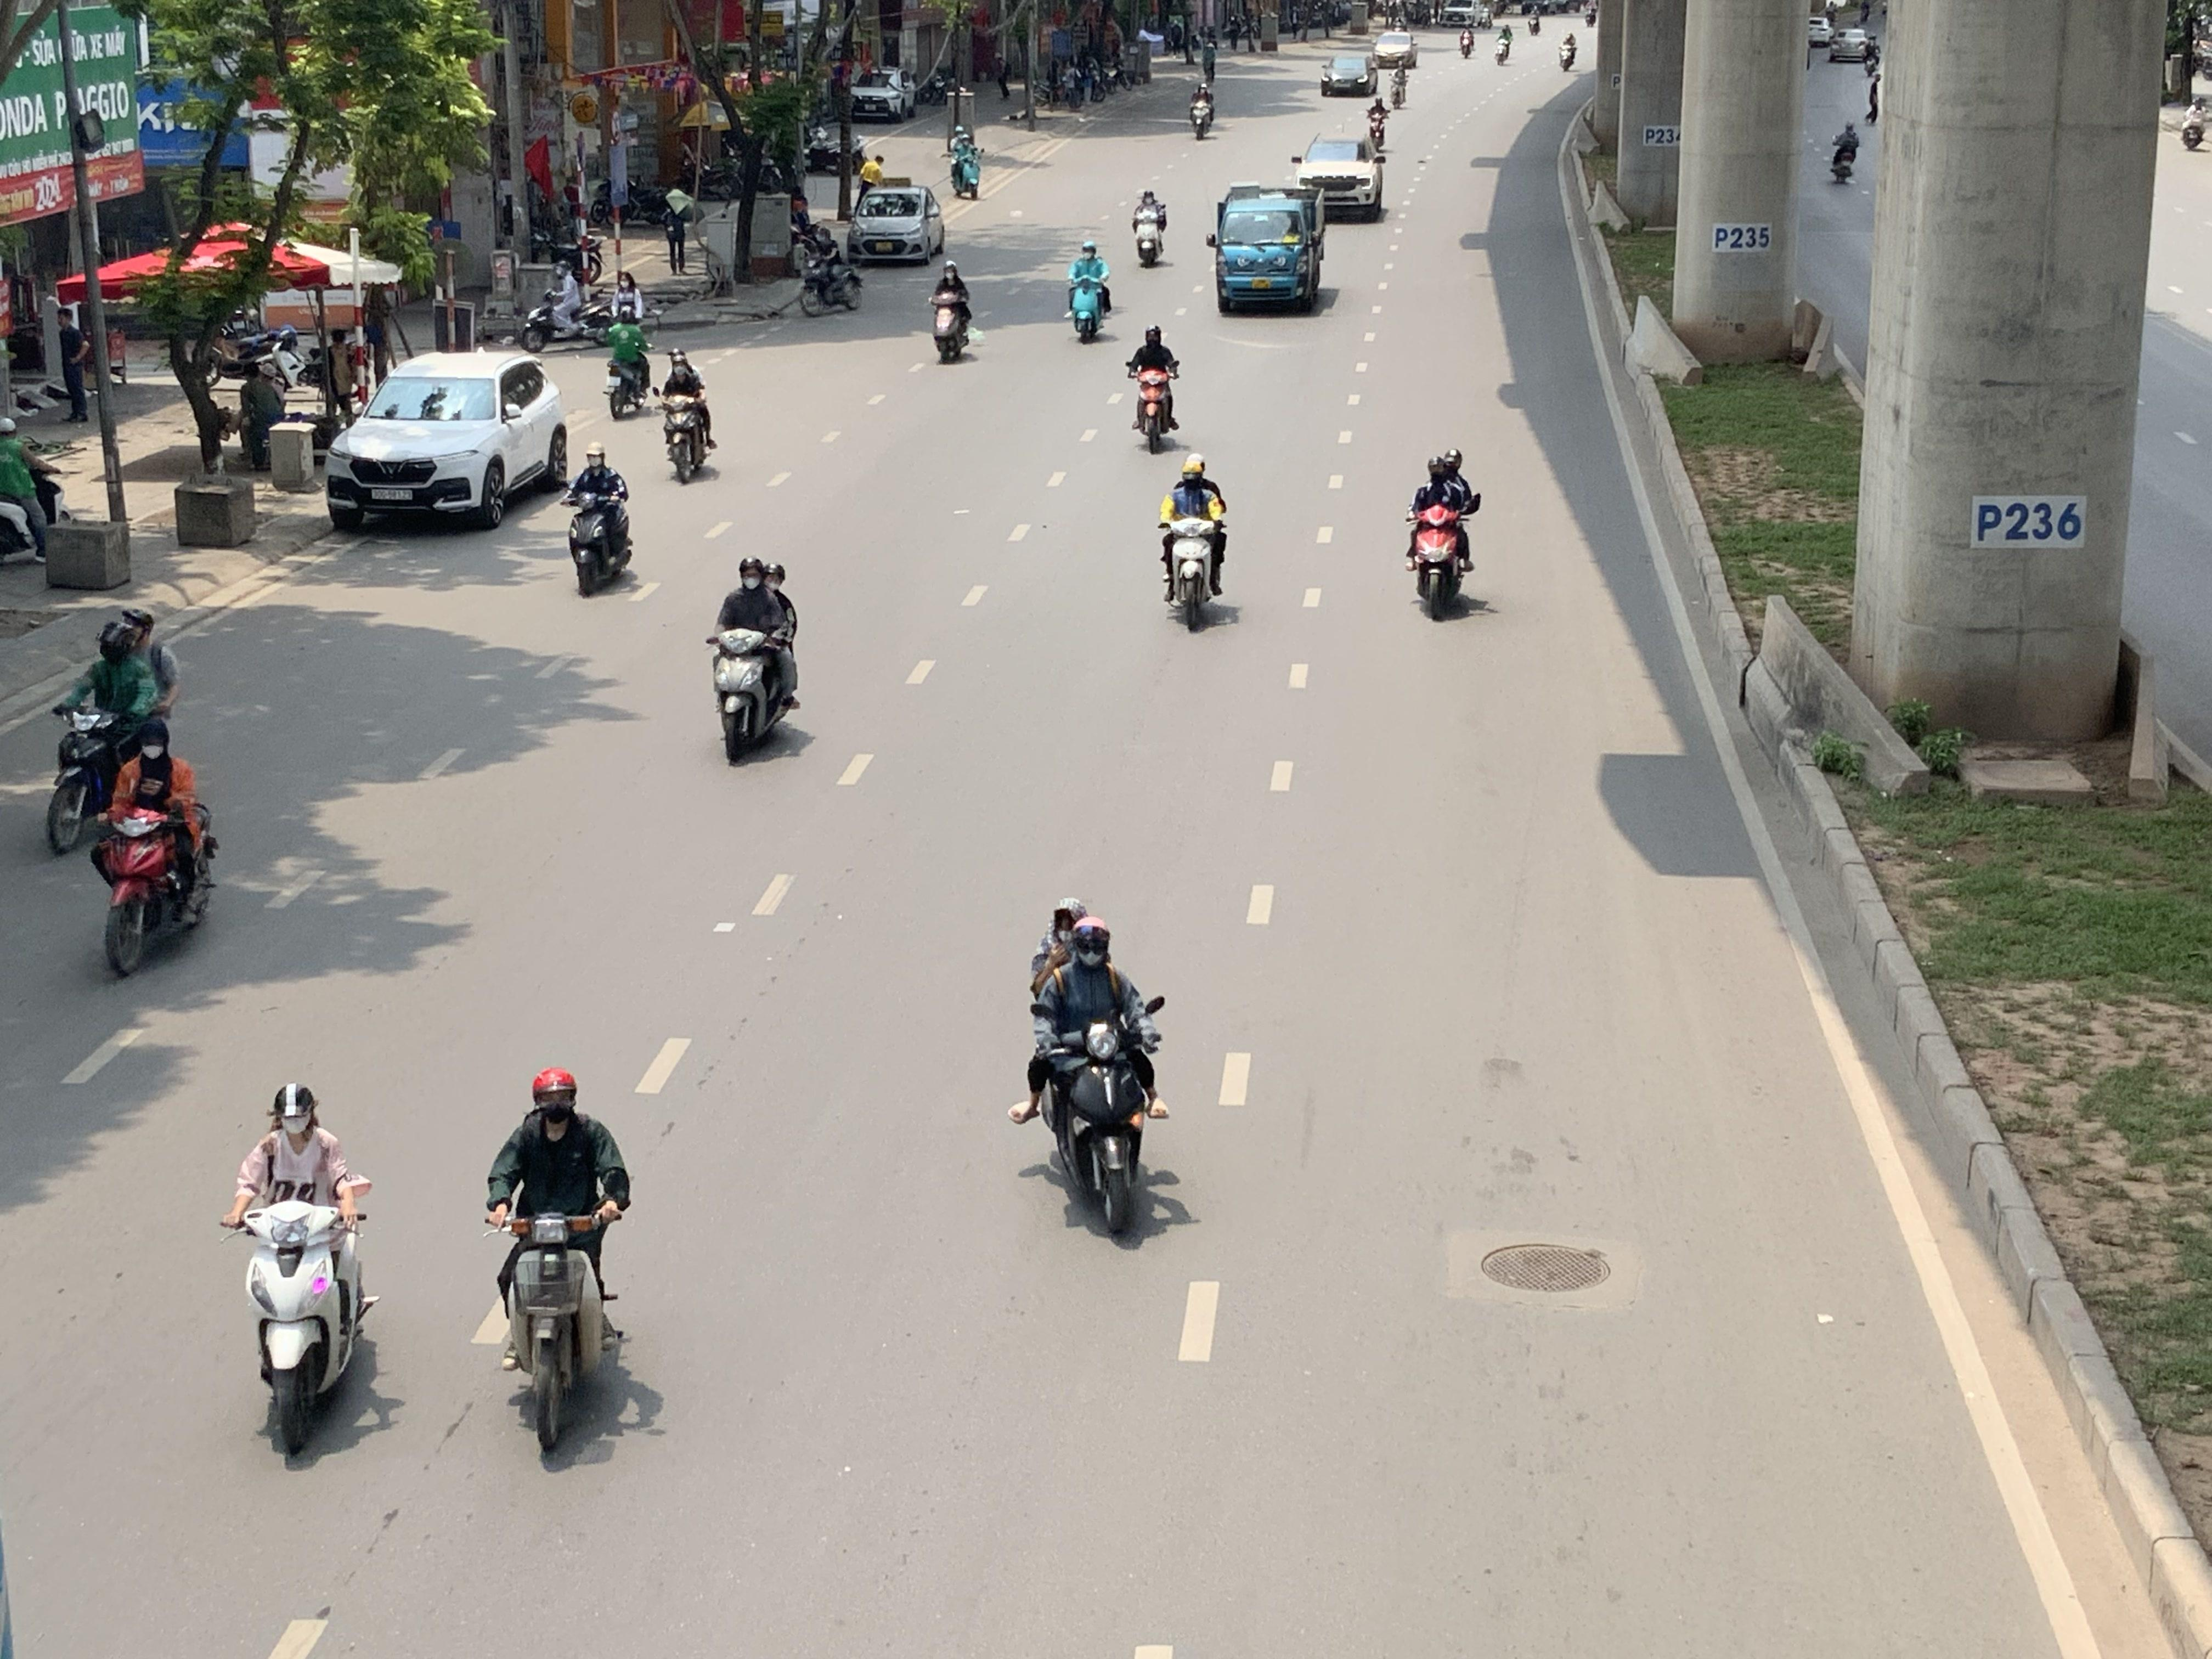car: (324, 350, 570, 533), (1289, 134, 1386, 221), (848, 183, 944, 265), (848, 68, 916, 122), (1320, 51, 1376, 96), (1827, 24, 1879, 63), (1371, 28, 1416, 66)
motorbike: (225, 1082, 376, 1469), (486, 1066, 631, 1462), (1017, 903, 1167, 1243), (42, 608, 178, 857), (94, 714, 216, 981), (709, 554, 801, 765), (1406, 446, 1479, 622), (1158, 453, 1230, 633), (564, 441, 637, 598), (0, 416, 63, 573), (523, 263, 613, 352), (658, 350, 716, 484), (1129, 324, 1181, 455), (798, 223, 864, 317), (604, 312, 653, 420), (1066, 239, 1115, 345), (930, 260, 977, 362), (1130, 185, 1169, 268), (946, 125, 982, 202), (2181, 68, 2212, 152), (1829, 119, 1860, 185), (1188, 75, 1216, 141)
truck: (1207, 183, 1327, 315)
